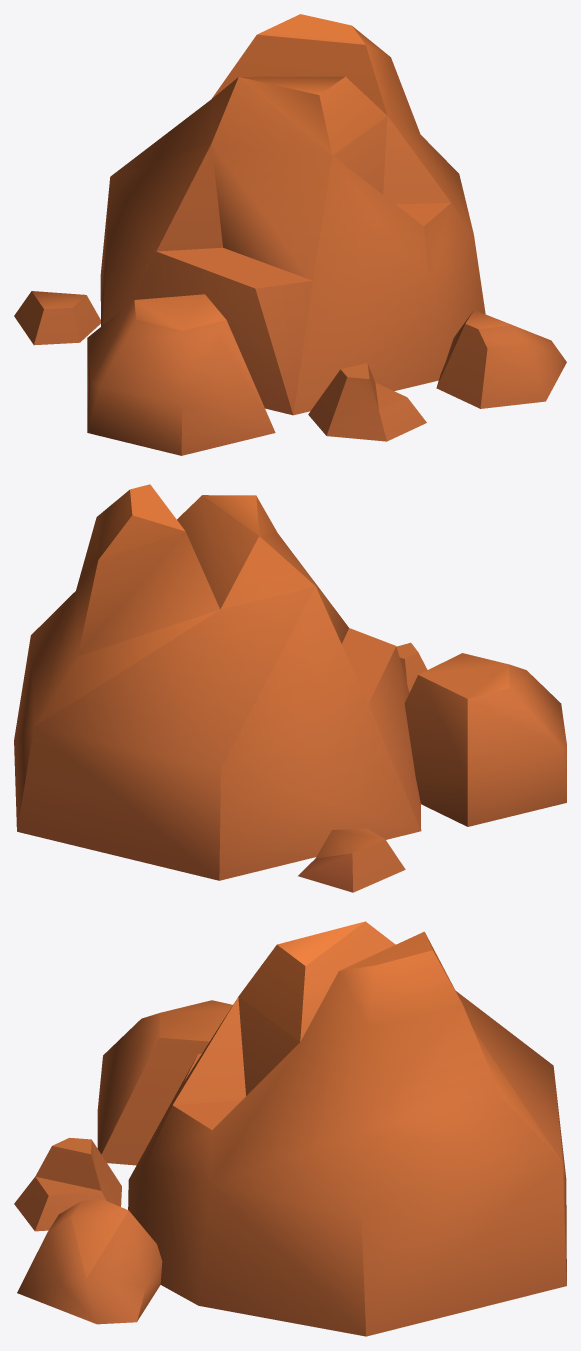
The model's file is rocks_B.obj.
The picture shows the model from 3 angles, top to bottom: view 1: azimuth 30°, elevation 25°; view 2: azimuth 150°, elevation 25°; view 3: azimuth 270°, elevation 25°; orthographic projection. The views are drawn at different scales.
Size of the model in its own units: 1.88 by 1.07 by 1.74.
Materials: 1 (1 with a texture image).
